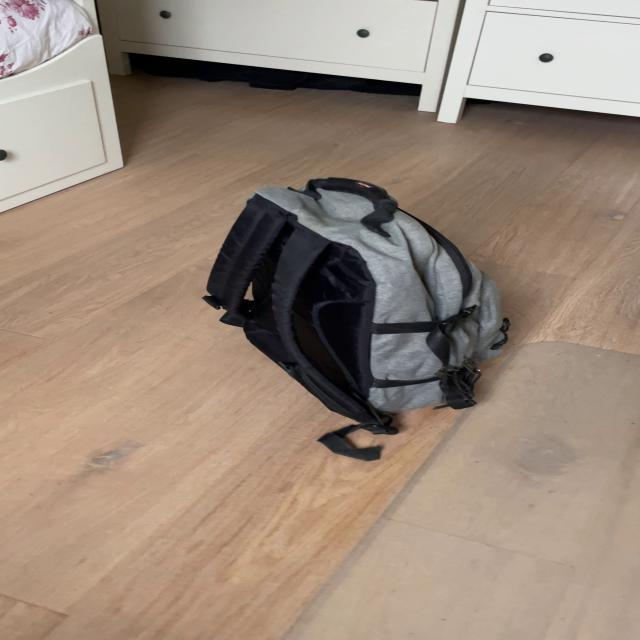backpack: (190, 161, 517, 430)
